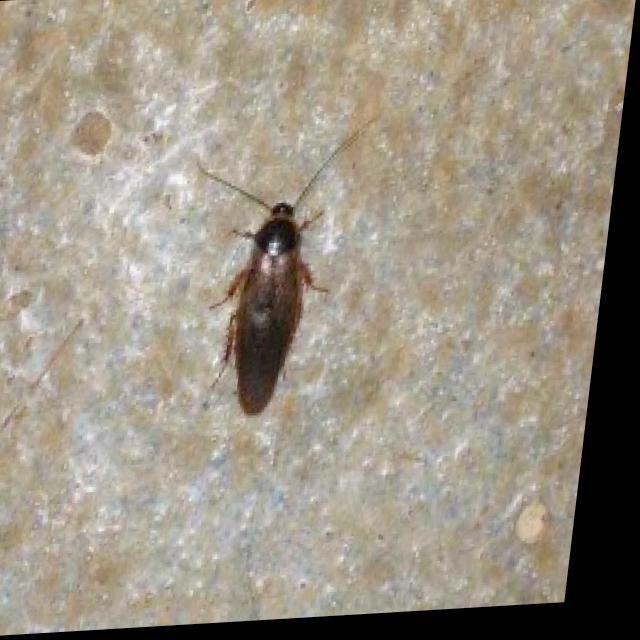cockroach: (187, 110, 385, 420)
